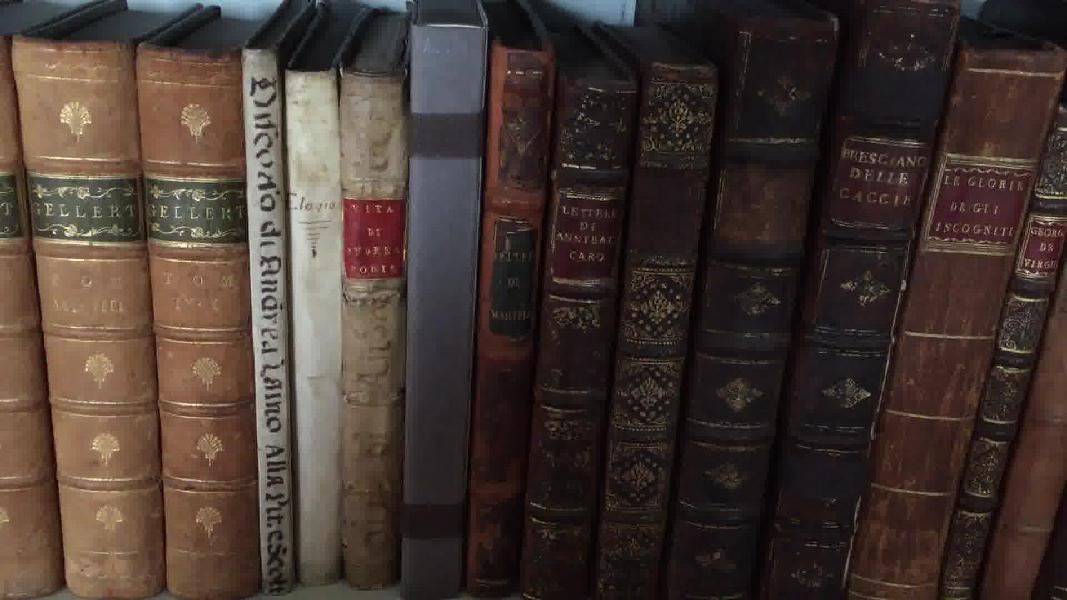Aa6-24: (227, 42, 308, 597)
Aa6-25: (274, 46, 350, 586)
Aa6-26: (336, 54, 406, 588)
Aa6-27: (404, 2, 485, 600)
Aa6-28: (466, 17, 551, 600)
Aa6-29: (525, 54, 629, 594)
Aa6-30: (590, 54, 724, 592)
Aa6-31: (654, 8, 834, 600)
Aa6-32: (759, 12, 968, 600)
Aa6-33: (840, 13, 1067, 597)
